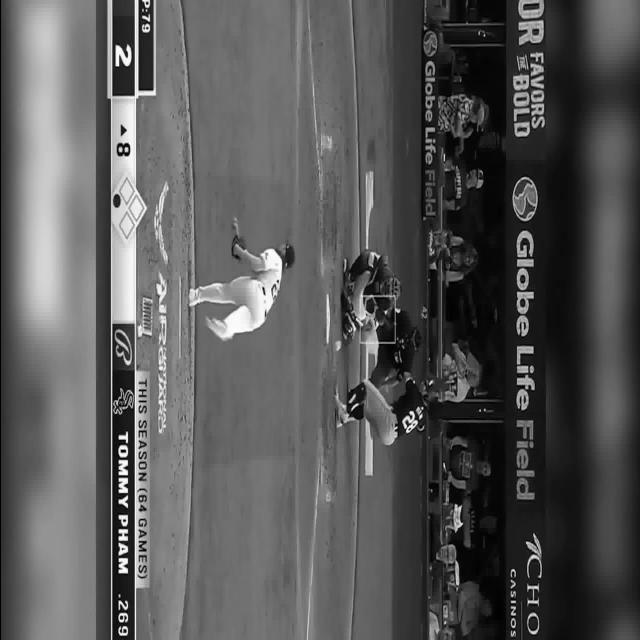baseball: (334, 340, 340, 350)
baseball_glove: (230, 234, 246, 260), (364, 287, 376, 315)
shoe: (204, 315, 232, 341), (334, 394, 348, 424), (187, 287, 198, 306), (342, 257, 350, 275)
